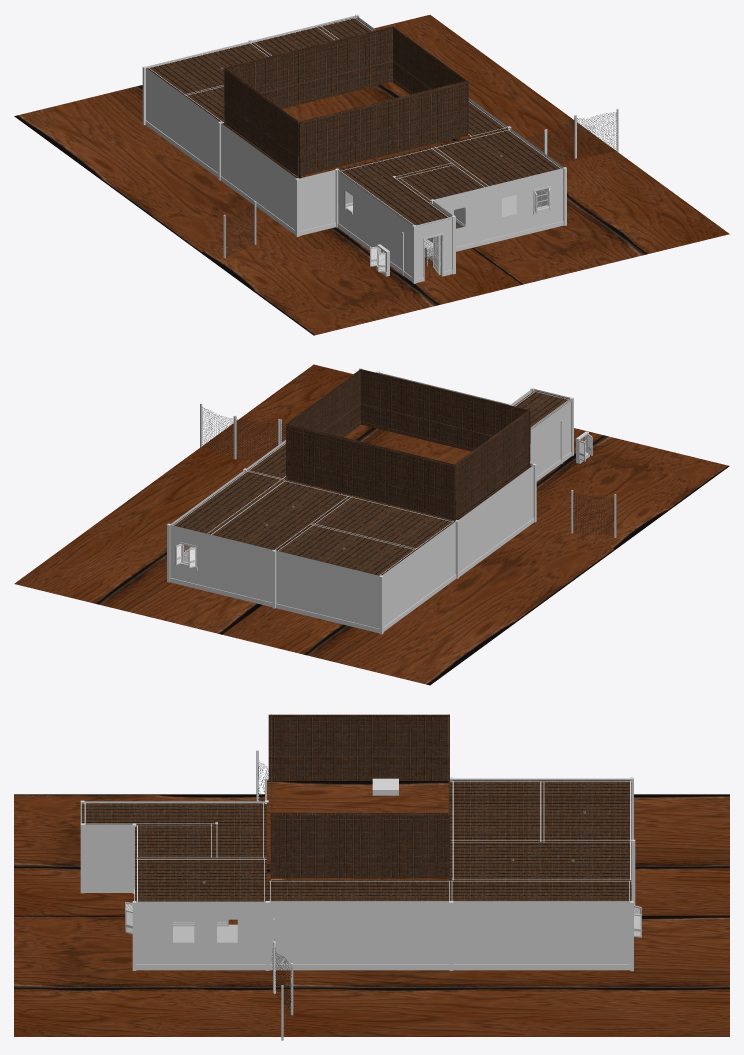
Rendered from Cerca_Final.fbx.
The picture shows the model from 3 angles, top to bottom: view 1: azimuth 30°, elevation 25°; view 2: azimuth 150°, elevation 25°; view 3: azimuth 270°, elevation 25°; orthographic projection. The views are drawn at different scales.
Parts seen in each view (by area): view 1: Plane.007, Plane.004, Plane.006, Teto, Plane.008, Plane.002, Cube.006, Cube.011, Cube.013, Plane, Cube.010; view 2: Plane.007, Plane.004, Plane.006, Teto, Plane.008, Cube.006, Plane.002, Cube.013, Cube.010, Cube.011, Cube.007; view 3: Plane.007, Teto, Plane.006, Plane.004, Plane.008, Plane.002, Cube.006, Plane, Cube.010.
Boxes of the visible parts, <box> form: Plane.007: <box>14,15,729,335</box>; Plane.004: <box>223,26,468,178</box>; Plane.006: <box>145,15,563,282</box>; Teto: <box>147,17,561,225</box>; Plane.008: <box>225,82,469,178</box>; Plane.002: <box>148,17,560,267</box>; Cube.006: <box>142,14,566,283</box>; Cube.011: <box>576,108,618,158</box>; Cube.013: <box>223,201,256,258</box>; Plane: <box>423,195,516,281</box>; Cube.010: <box>545,115,576,164</box>; Plane.007: <box>14,364,729,685</box>; Plane.004: <box>286,368,530,520</box>; Plane.006: <box>170,372,571,633</box>; Teto: <box>173,390,570,575</box>; Plane.008: <box>285,424,530,518</box>; Cube.006: <box>167,371,573,634</box>; Plane.002: <box>172,391,571,576</box>; Cube.013: <box>571,490,616,537</box>; Cube.010: <box>235,415,279,460</box>; Cube.011: <box>200,403,234,459</box>; Cube.007: <box>175,542,197,570</box>; Plane.007: <box>14,794,729,1036</box>; Teto: <box>82,780,631,901</box>; Plane.006: <box>84,778,630,970</box>; Plane.004: <box>268,714,449,879</box>; Plane.008: <box>267,780,448,879</box>; Plane.002: <box>84,781,631,942</box>; Cube.006: <box>80,777,635,971</box>; Plane: <box>173,919,237,942</box>; Cube.010: <box>273,942,292,1013</box>.
Bounding box in the file's own units: 2180 × 574 × 2714.
